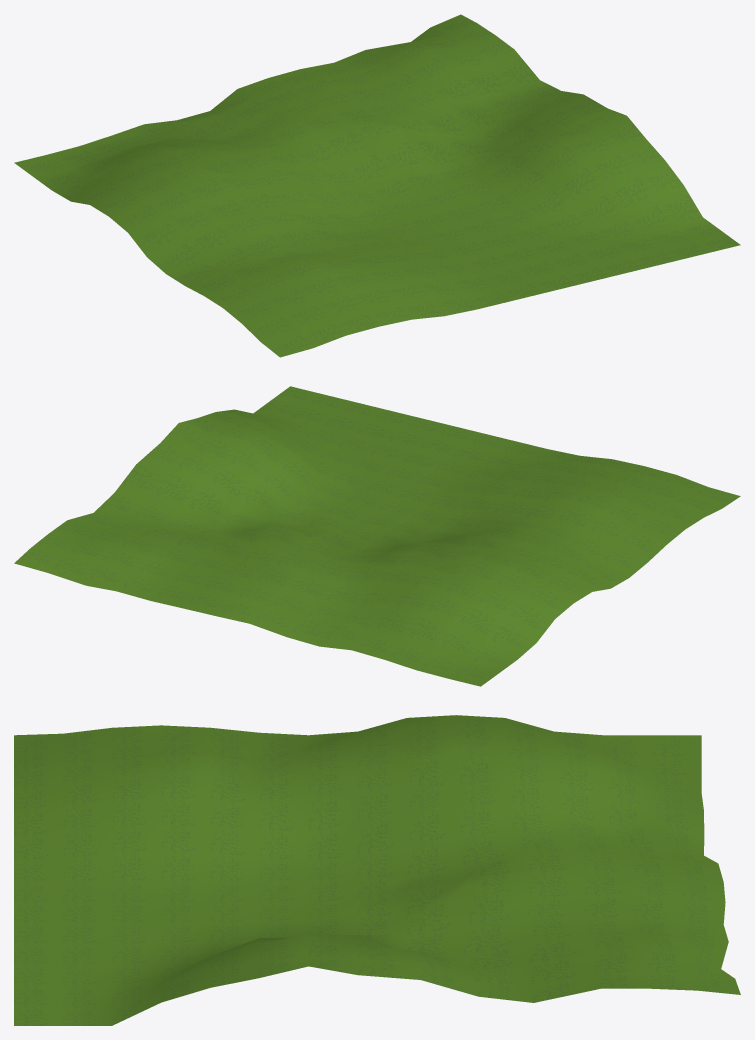
File: land2.obj
3 renders of one model, top to bottom at view 1: azimuth 30°, elevation 25°; view 2: azimuth 150°, elevation 25°; view 3: azimuth 270°, elevation 25°, orthographic. The views are drawn at different scales.
Parts seen in each view (by area): view 1: Ground1_GroundMesh; view 2: Ground1_GroundMesh; view 3: Ground1_GroundMesh.
Part boxes in pixels (box(x1,y1,x2,y2)): Ground1_GroundMesh: box(14, 14, 740, 357); Ground1_GroundMesh: box(14, 386, 740, 686); Ground1_GroundMesh: box(14, 715, 740, 1025).
Size of the model in its own units: 201 by 19.06 by 211.
